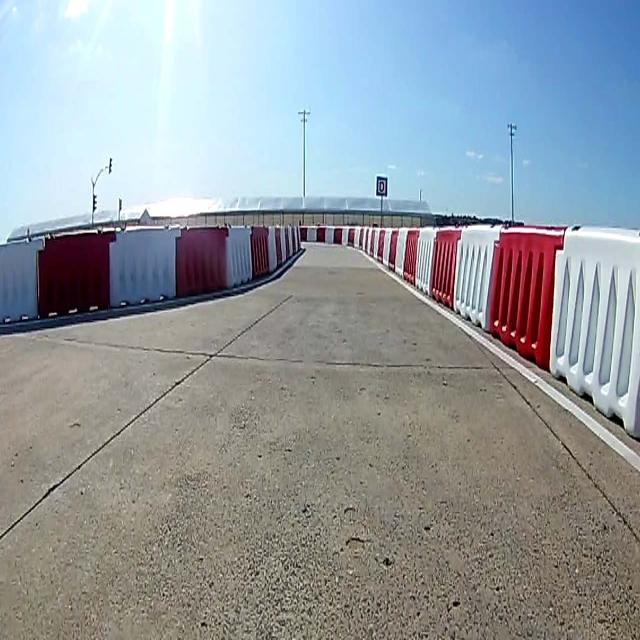durak: (377, 176, 389, 196)
